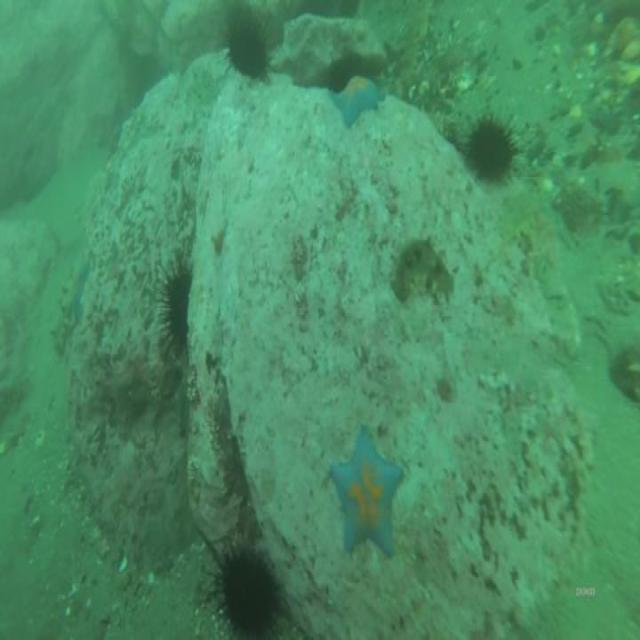echinus: (220, 560, 278, 638), (469, 120, 513, 177), (228, 27, 266, 79), (162, 278, 188, 340)
holothurian: (392, 235, 452, 302), (500, 191, 542, 242), (55, 273, 73, 351), (402, 21, 419, 82)
scallop: (457, 70, 472, 88)
starfish: (331, 430, 401, 561), (332, 76, 385, 128)
